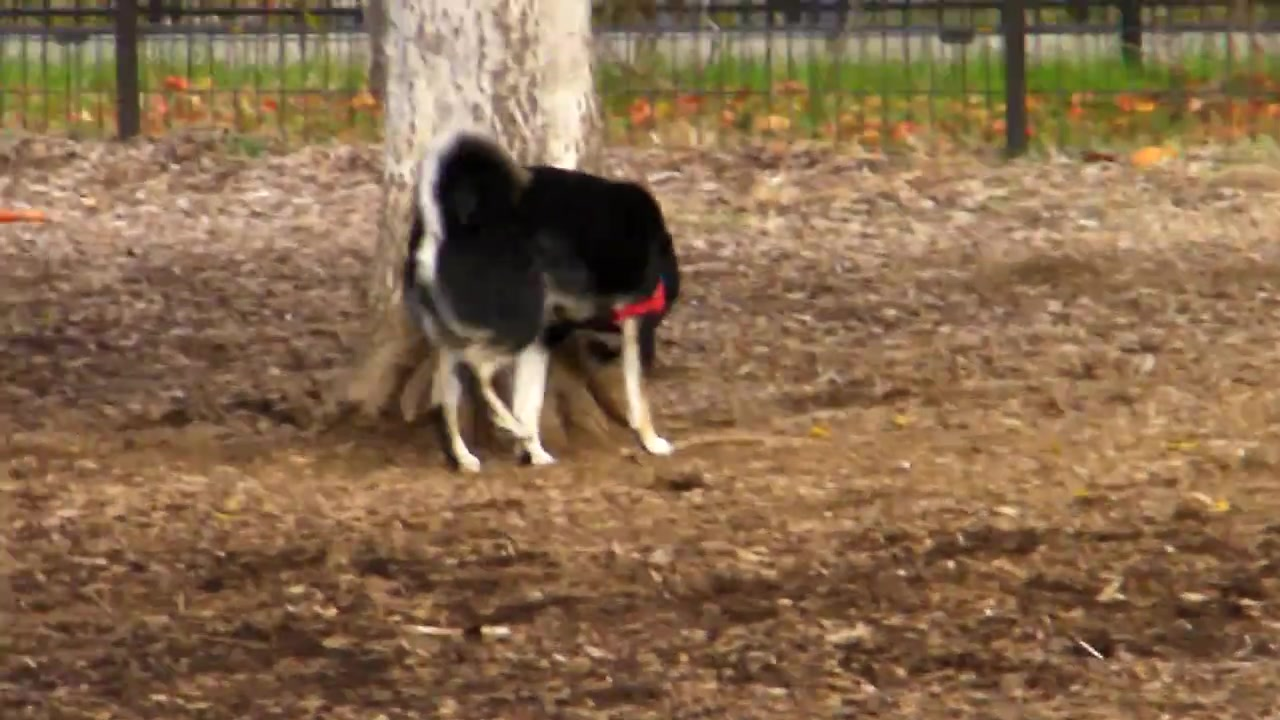dog: (403, 136, 682, 477)
